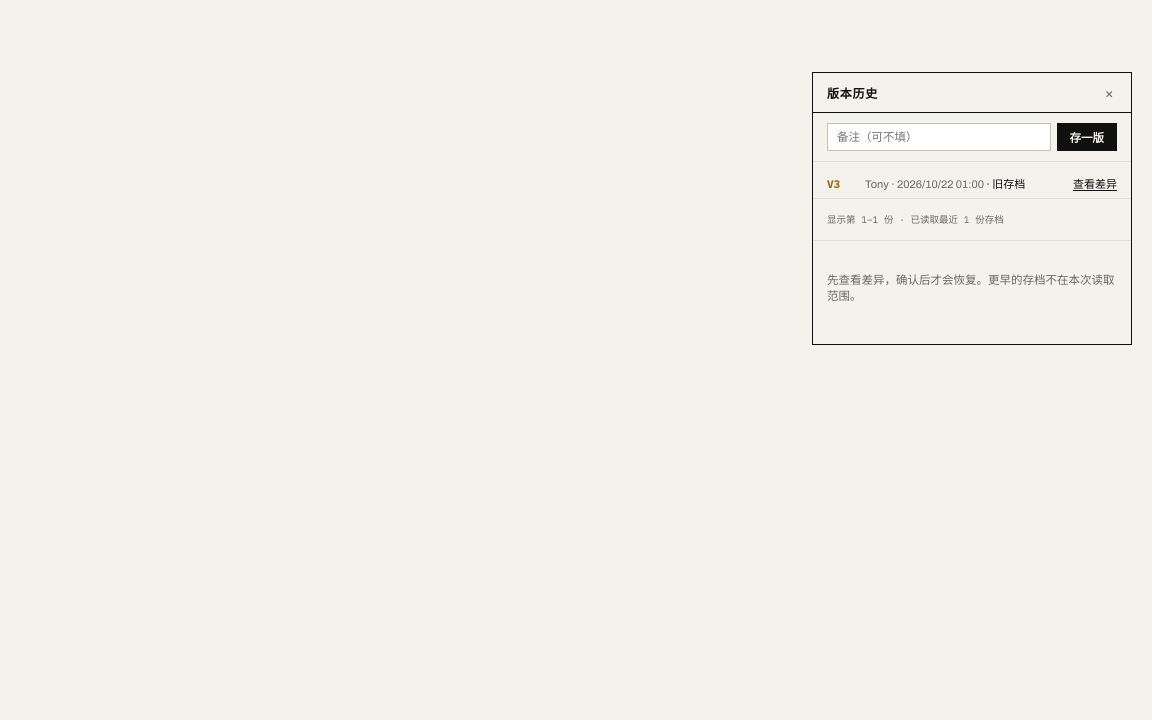
版本预览与恢复 › blocks a no-op restore when the contents already match
The width and height of the screenshot is (1152, 720).
Click the button "查看差异". click: [1095, 183]
box: [1073,175,1117,191]
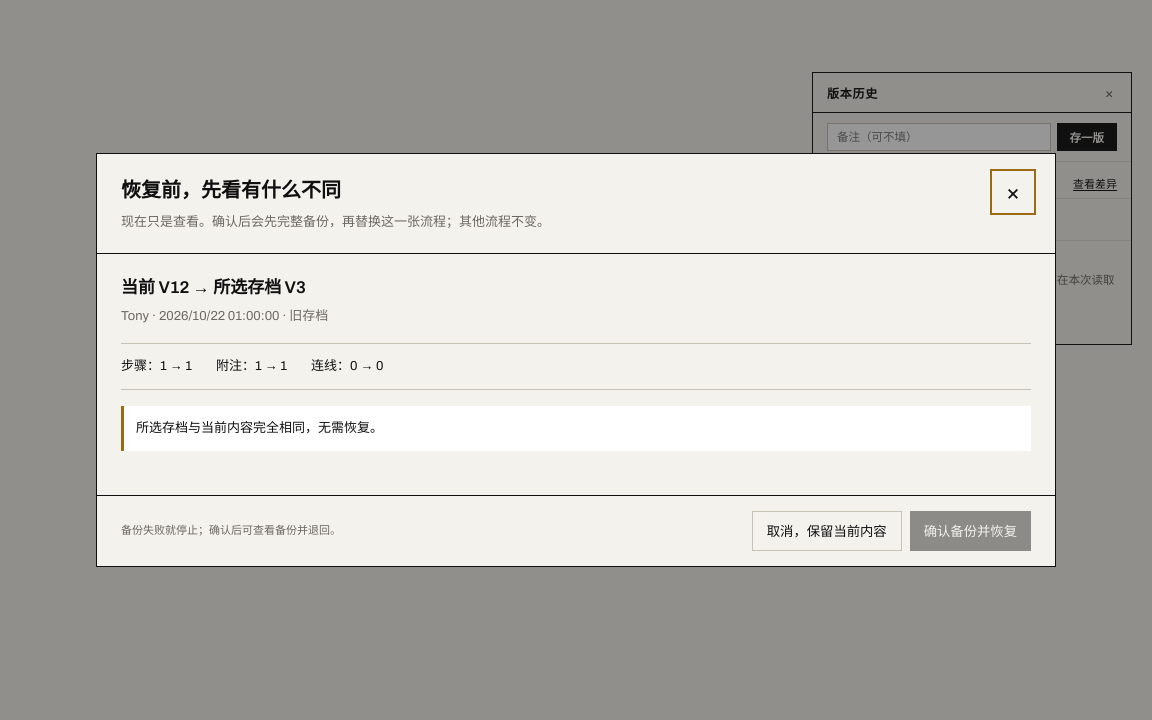
Expected: the text "所选存档与当前内容完全相同，无需恢复。" is shown, [121,406,1031,451]
Expected: the button "确认备份并恢复" is disabled, [910,511,1031,551]
